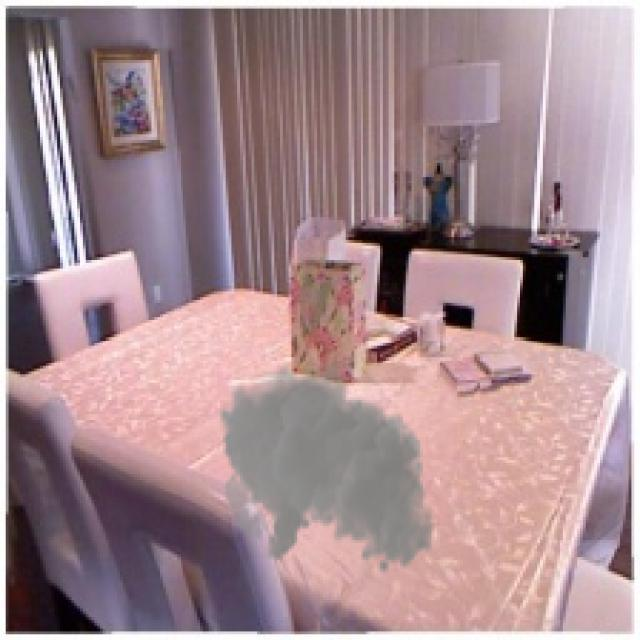Smoke: (217, 354, 434, 574)
